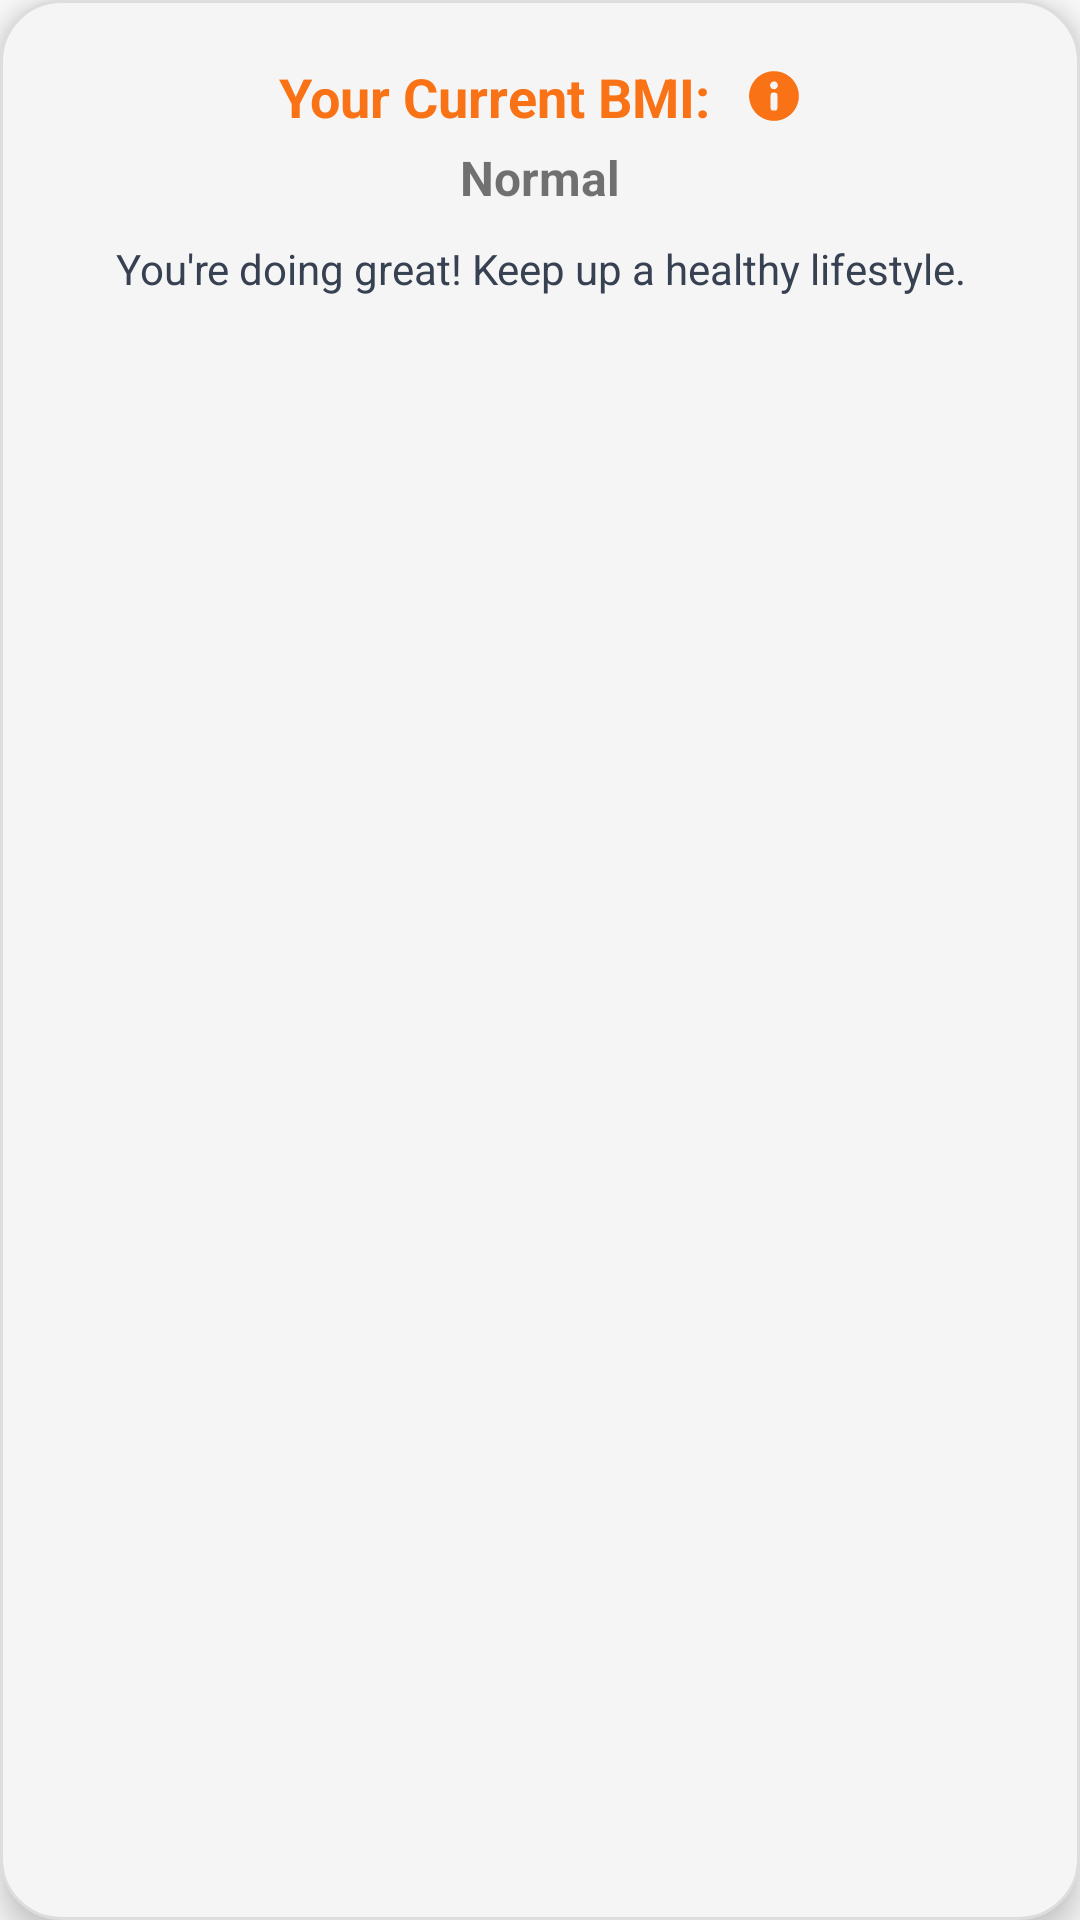

Named icons in this screenshot (1080px×1920px) and their bounding boxes, (x1, y1, x2, y2):
BMI Info: (749, 71, 799, 121)
